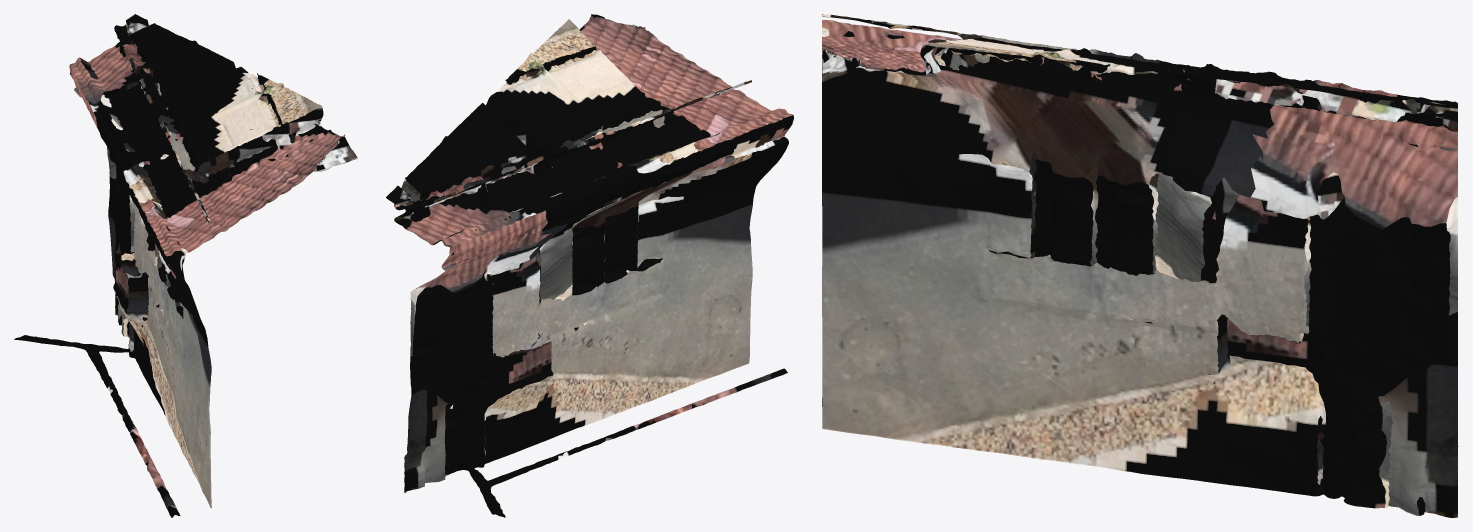
3 renders of one model, left to right at view 1: azimuth 30°, elevation 25°; view 2: azimuth 150°, elevation 25°; view 3: azimuth 270°, elevation 25°, orthographic. The views are drawn at different scales.
Visible parts, largest first — view 1: node_152; view 2: node_152; view 3: node_152.
Boxes of the visible parts, <box> form: node_152: <box>14,14,357,517</box>; node_152: <box>386,14,793,517</box>; node_152: <box>822,14,1458,517</box>.
Size of the model in its own units: 5.49 by 9.31 by 11.01.
1 material, 1 textured.
